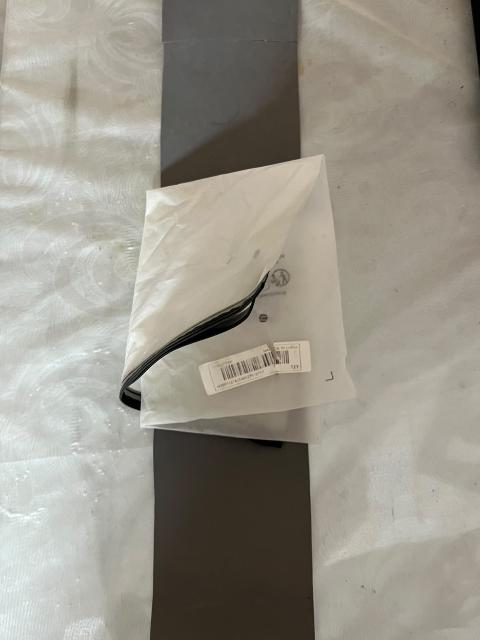LDPE: (91, 125, 389, 479)
